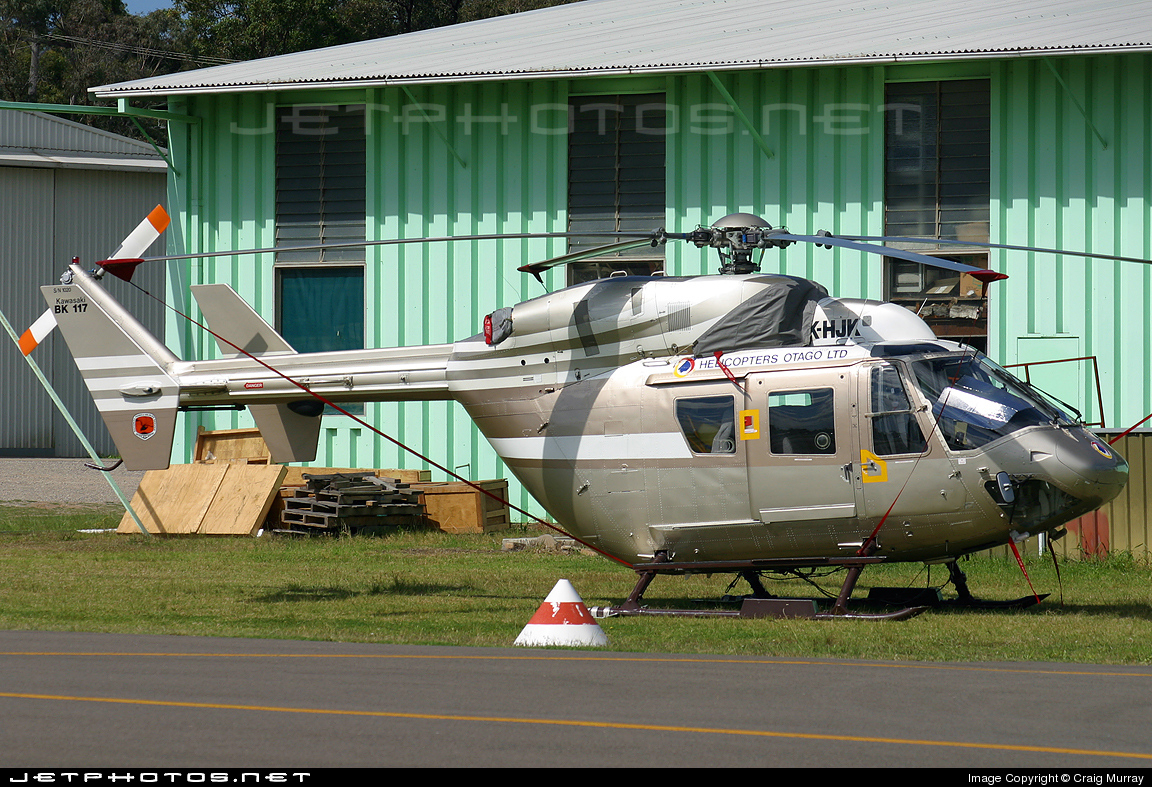number: (794, 313, 869, 345)
